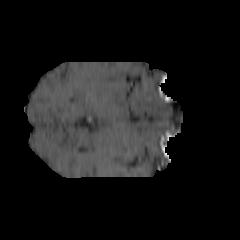glioma: (74, 74, 139, 129)
